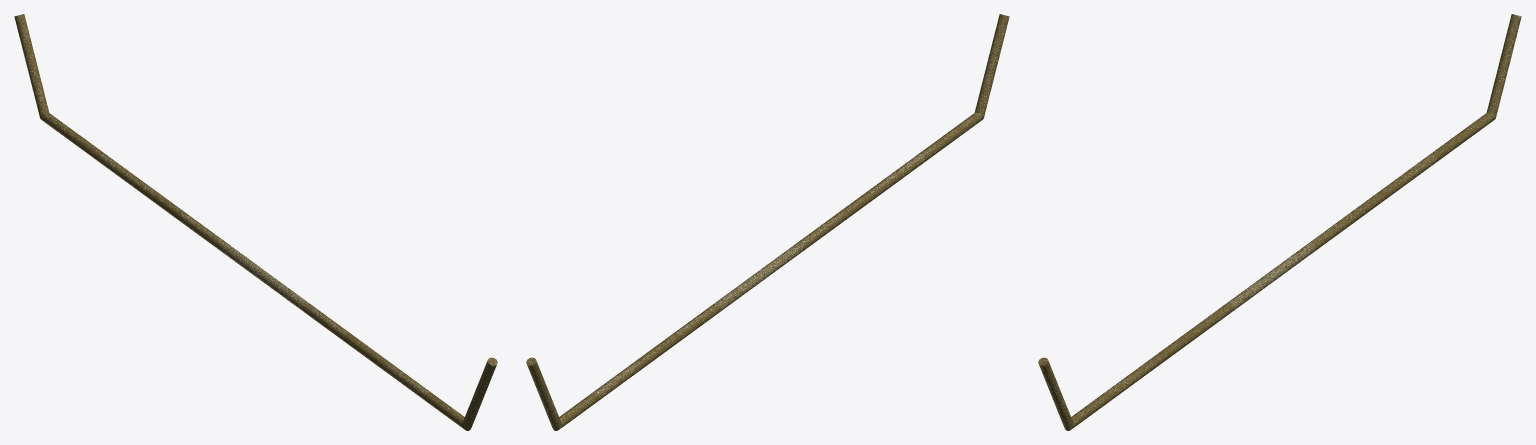
The model's file is original-73.obj.
The picture shows the model from 3 angles, left to right: view 1: azimuth 30°, elevation 25°; view 2: azimuth 150°, elevation 25°; view 3: azimuth 330°, elevation 25°; orthographic projection.
Parts seen in each view (by area): view 1: Component_6_18/Component_6/mesh44/mesh44-geometry#mesh44-geometr; view 2: Component_6_18/Component_6/mesh44/mesh44-geometry#mesh44-geometr; view 3: Component_6_18/Component_6/mesh44/mesh44-geometry#mesh44-geometr.
Part boxes in pixels (box(x1,y1,x2,y2)): Component_6_18/Component_6/mesh44/mesh44-geometry#mesh44-geometr: box(14, 14, 497, 430); Component_6_18/Component_6/mesh44/mesh44-geometry#mesh44-geometr: box(526, 14, 1009, 430); Component_6_18/Component_6/mesh44/mesh44-geometry#mesh44-geometr: box(1038, 14, 1521, 430).
Size of the model in its own units: 0.00621 by 0.0592 by 0.5759.
